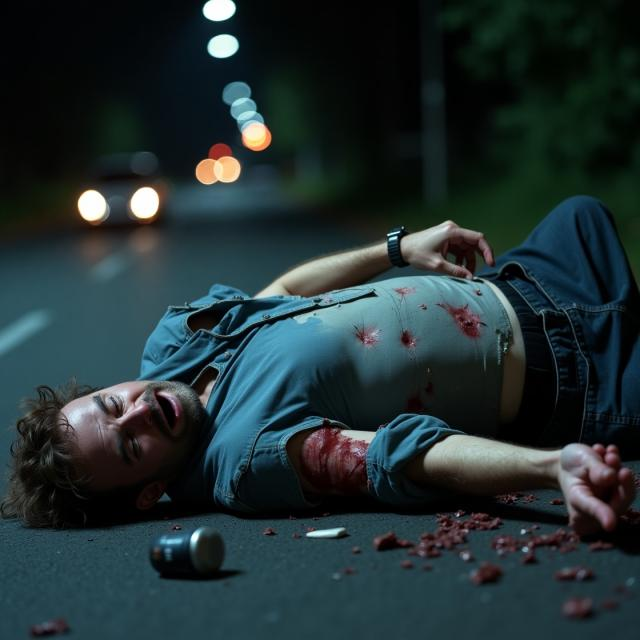injury: (278, 433, 384, 506), (448, 302, 487, 341), (350, 320, 382, 351), (398, 328, 423, 353)
